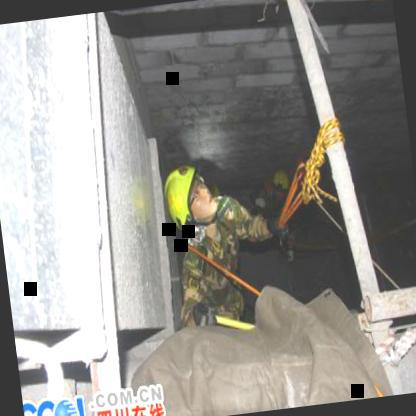helmet: (162, 160, 220, 232)
